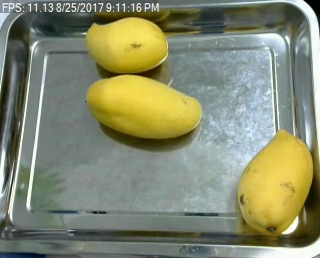Mango: (236, 128, 316, 239), (86, 74, 203, 144), (80, 15, 169, 74)
